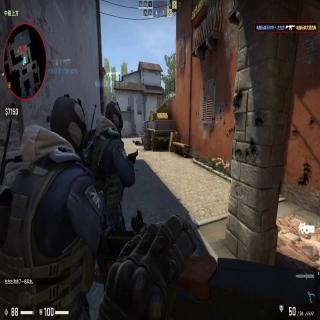CT-Head: (50, 94, 89, 158), (104, 100, 124, 133)
